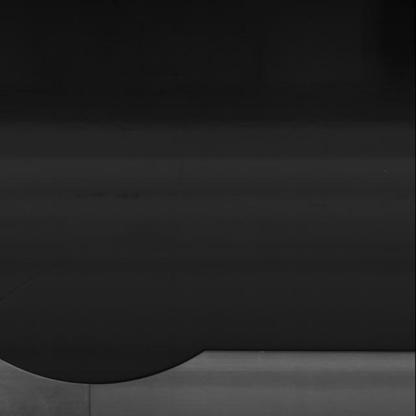crescent_gap: (1, 345, 215, 388)
